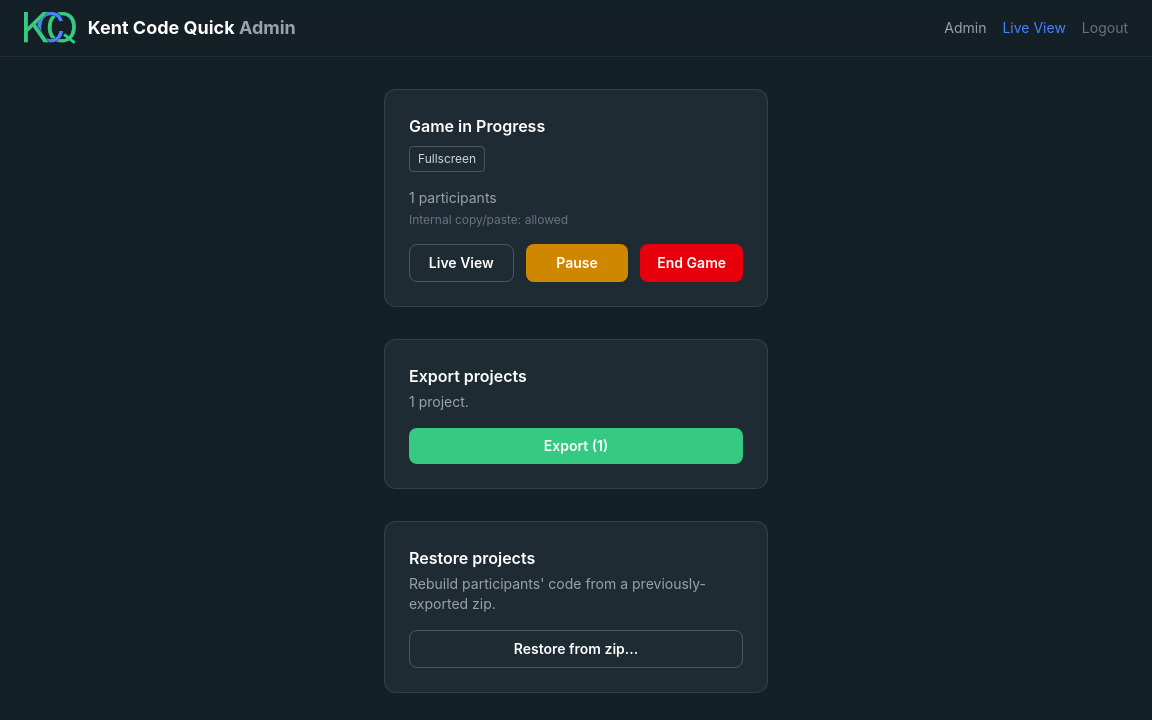
Test case: Admin page - project export › surfaces the reason an export failed
Click the button with test id "export-projects". click: (576,446)
box: [409,428,743,464]
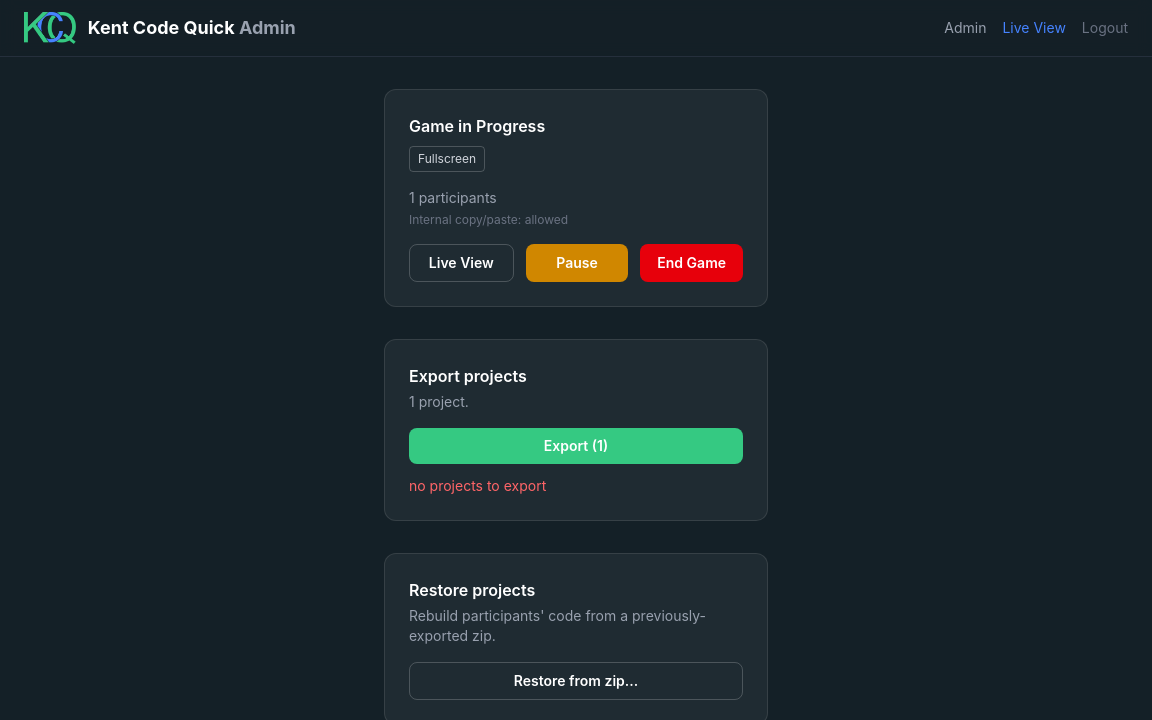
Now the text with test id "export-error" reads "no projects to export", box [409,477,546,494]
